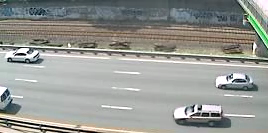car: (171, 102, 226, 129), (213, 71, 255, 93), (4, 46, 42, 67)
